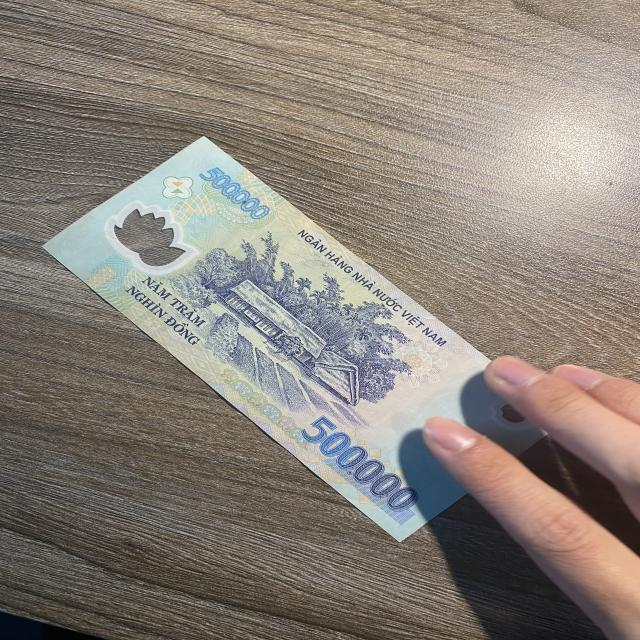500 000 VND: (40, 134, 570, 545)
